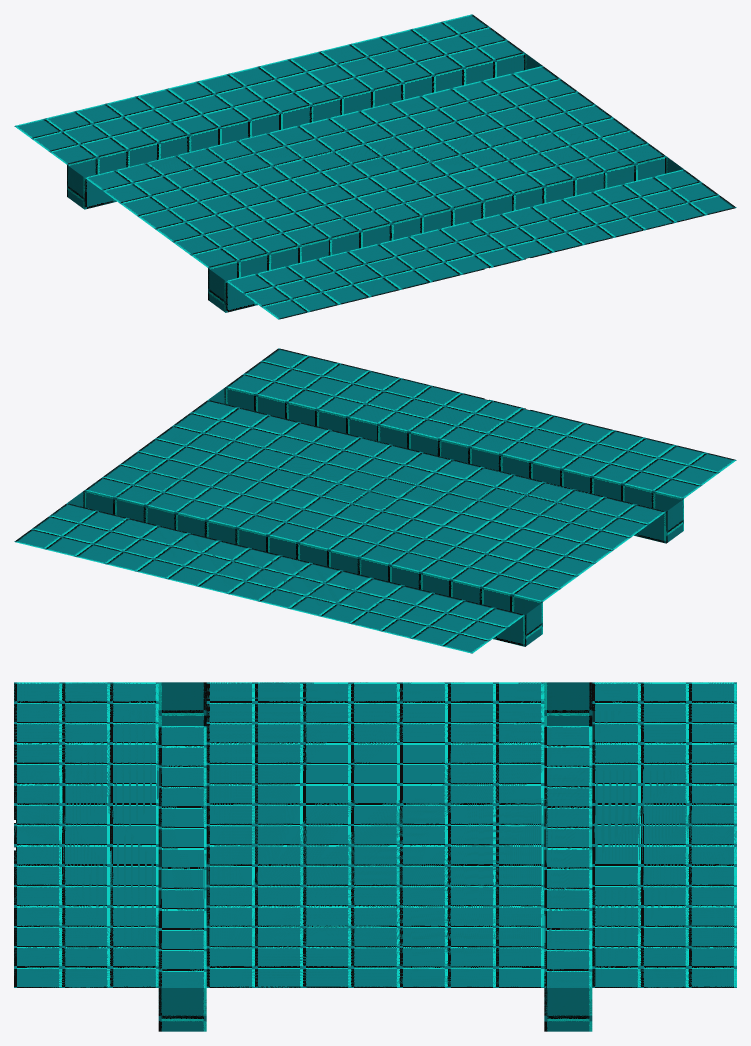
Rendered from Dungeon Floor Water =.dae.
3 views of the same model, one above another, from view 1: azimuth 30°, elevation 25°; view 2: azimuth 150°, elevation 25°; view 3: azimuth 270°, elevation 25° (orthographic). The views are drawn at different scales.
Visible parts, largest first — view 1: group_0; view 2: group_0; view 3: group_0.
Boxes of the visible parts, x1,y1,x2,y2 form: group_0: (14,14,736,319); group_0: (14,348,736,653); group_0: (14,682,736,1031).
Size of the model in its own units: 591 by 591 by 39.37.
